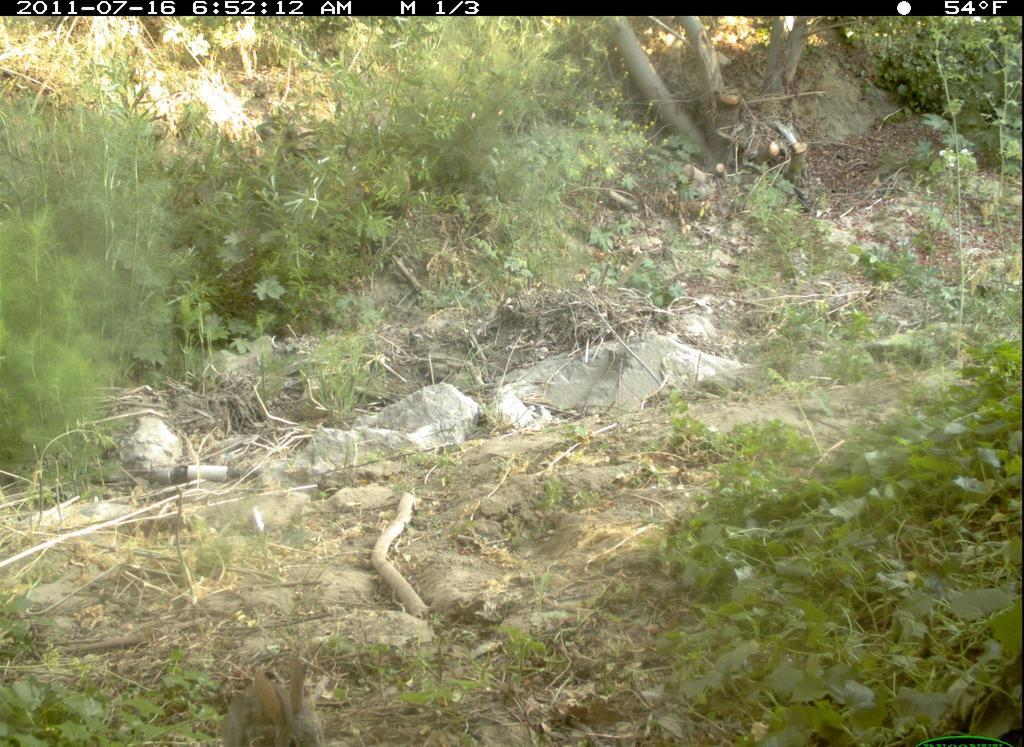rabbit: (200, 656, 346, 747)
